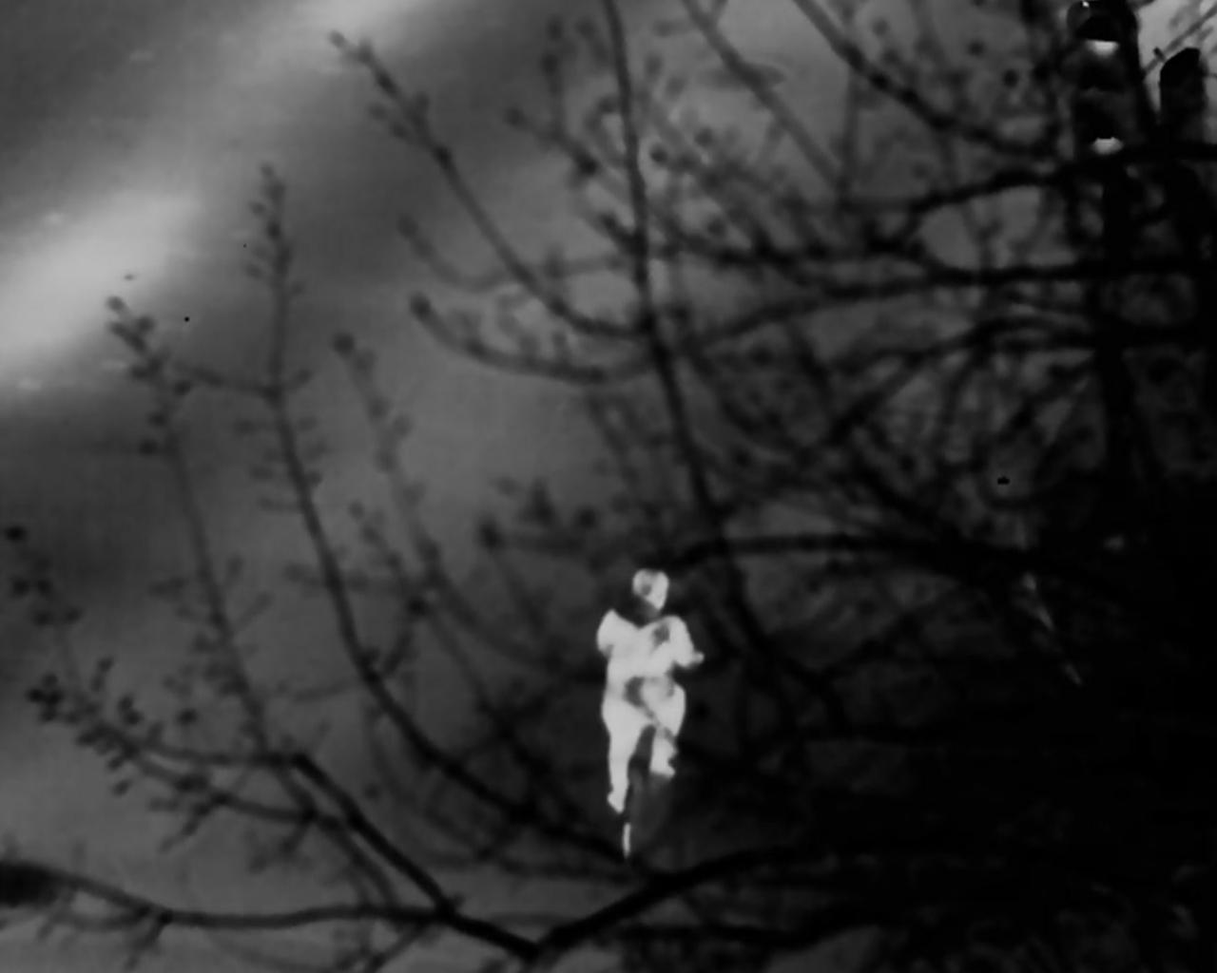person: (591, 562, 709, 796)
